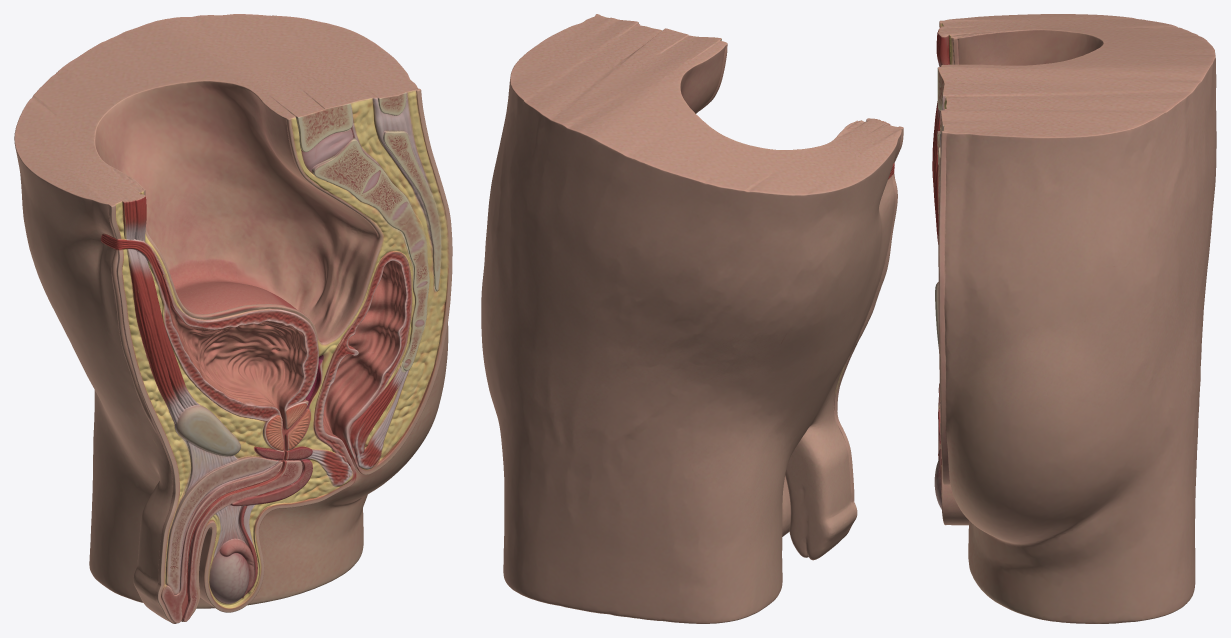
Rendered from fistulauracal-v2.glb.
3 views of the same model, side by side, from view 1: azimuth 30°, elevation 25°; view 2: azimuth 150°, elevation 25°; view 3: azimuth 270°, elevation 25° (orthographic). The views are drawn at different scales.
Bounding box in the file's own units: 1.57 × 1.9 × 0.9854.
Materials: 1 (1 with a texture image).
